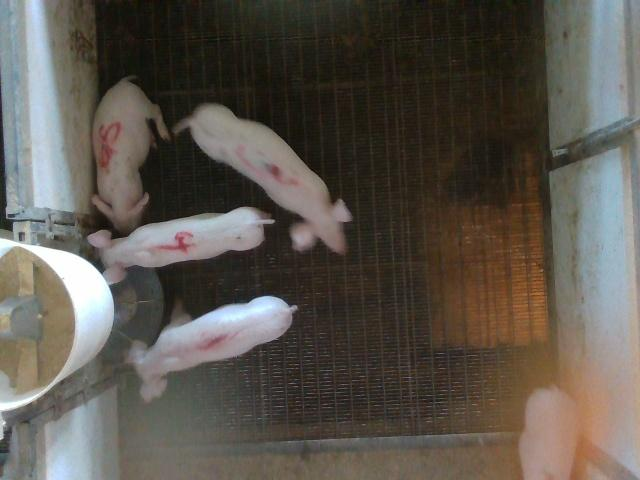pig-1: (128, 298, 295, 402)
pig-3: (172, 104, 352, 253)
pig-4: (88, 208, 274, 284)
pig-5: (92, 76, 170, 234)
